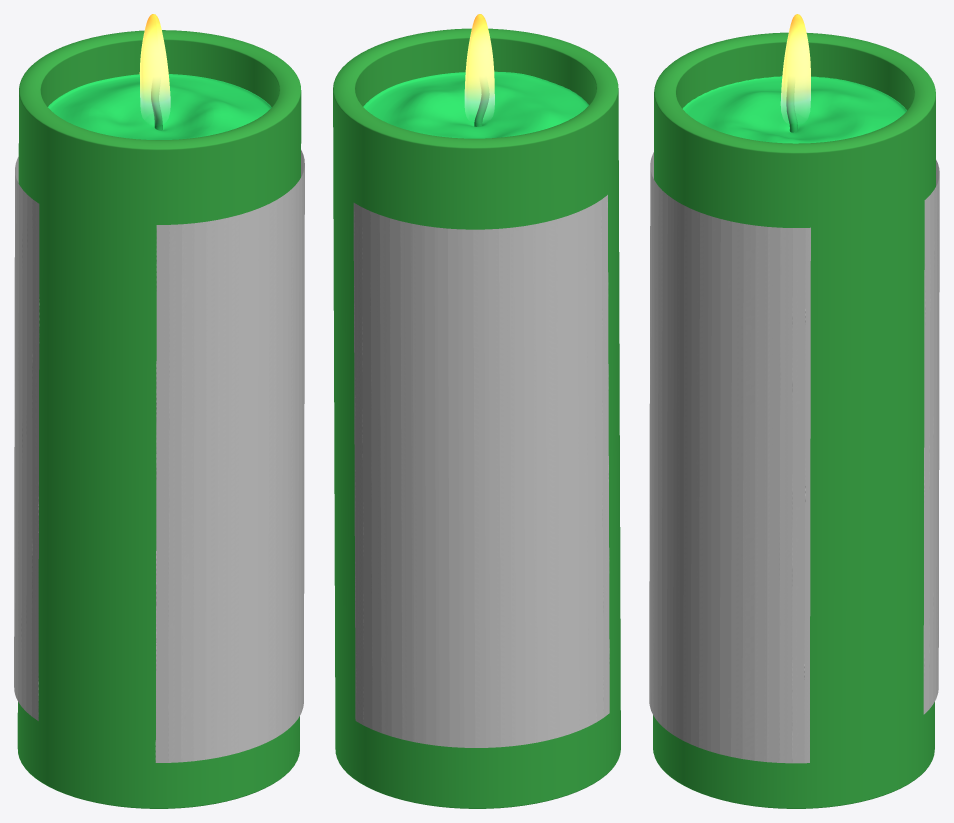
The model's file is singleCandleAnimatedFlame.glb.
The picture shows the model from 3 angles, left to right: view 1: azimuth 30°, elevation 25°; view 2: azimuth 150°, elevation 25°; view 3: azimuth 270°, elevation 25°; orthographic projection.
Visible parts, largest first — view 1: glass, Label2, Label1, wax, Flame; view 2: Label1, glass, wax, Flame; view 3: glass, Label2, wax, Label1, Flame.
Boxes of the visible parts, bbox=[...] form: glass: bbox=[17, 30, 301, 808]; Label2: bbox=[155, 150, 304, 762]; Label1: bbox=[14, 157, 39, 720]; wax: bbox=[48, 74, 271, 139]; Flame: bbox=[139, 14, 170, 116]; Label1: bbox=[353, 195, 609, 747]; glass: bbox=[333, 28, 620, 808]; wax: bbox=[363, 71, 588, 138]; Flame: bbox=[464, 14, 494, 115]; glass: bbox=[653, 32, 935, 808]; Label2: bbox=[649, 152, 810, 763]; wax: bbox=[682, 76, 906, 143]; Label1: bbox=[923, 160, 939, 714]; Flame: bbox=[780, 14, 810, 117].
Size of the model in its own units: 0.7687 by 2.13 by 0.7639.
Materials: 5 (1 with a texture image).
